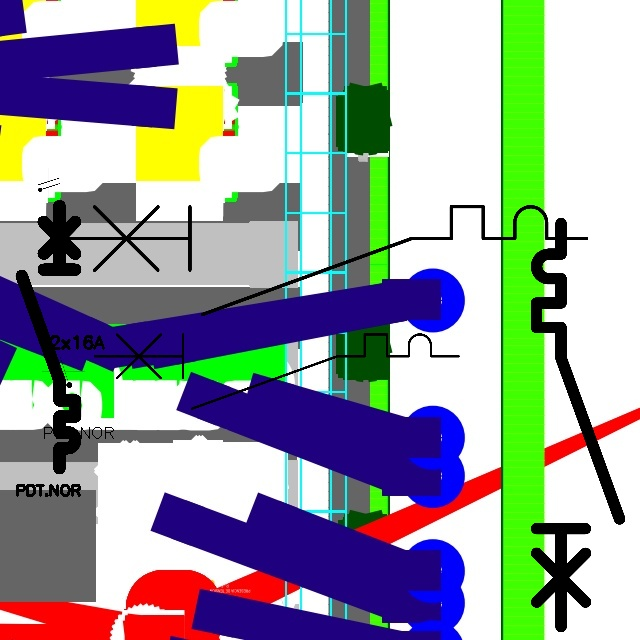interruptor_termomagnetico: (49, 193, 600, 328), (526, 213, 629, 637), (85, 325, 467, 418), (15, 199, 82, 475)
